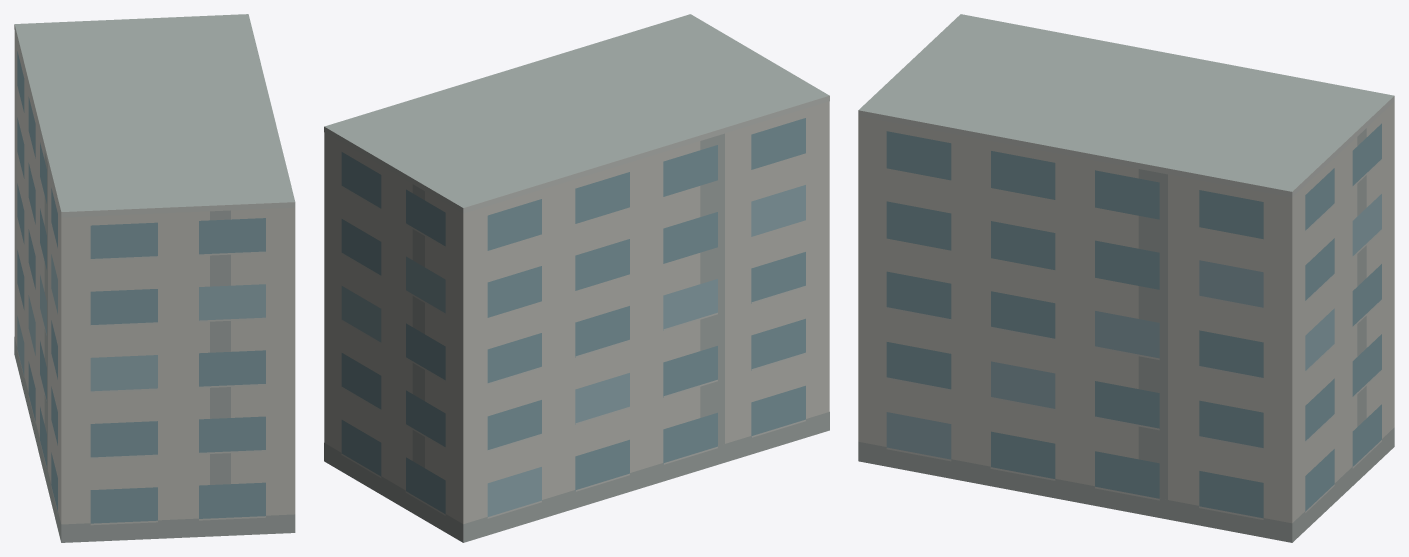
File: survey-upis-32530259.glb
The picture shows the model from 3 angles, left to right: view 1: azimuth 30°, elevation 25°; view 2: azimuth 150°, elevation 25°; view 3: azimuth 270°, elevation 25°; orthographic projection. The views are drawn at different scales.
Parts seen in each view (by area): view 1: survey-upis-32530259.tmp; view 2: survey-upis-32530259.tmp; view 3: survey-upis-32530259.tmp.
Part boxes in pixels (x1=…): survey-upis-32530259.tmp: x1=14, y1=14, x2=295, y2=542; survey-upis-32530259.tmp: x1=324, y1=14, x2=829, y2=542; survey-upis-32530259.tmp: x1=858, y1=14, x2=1394, y2=542.
Bounding box in the file's own units: 15.66 × 14.4 × 19.95.
